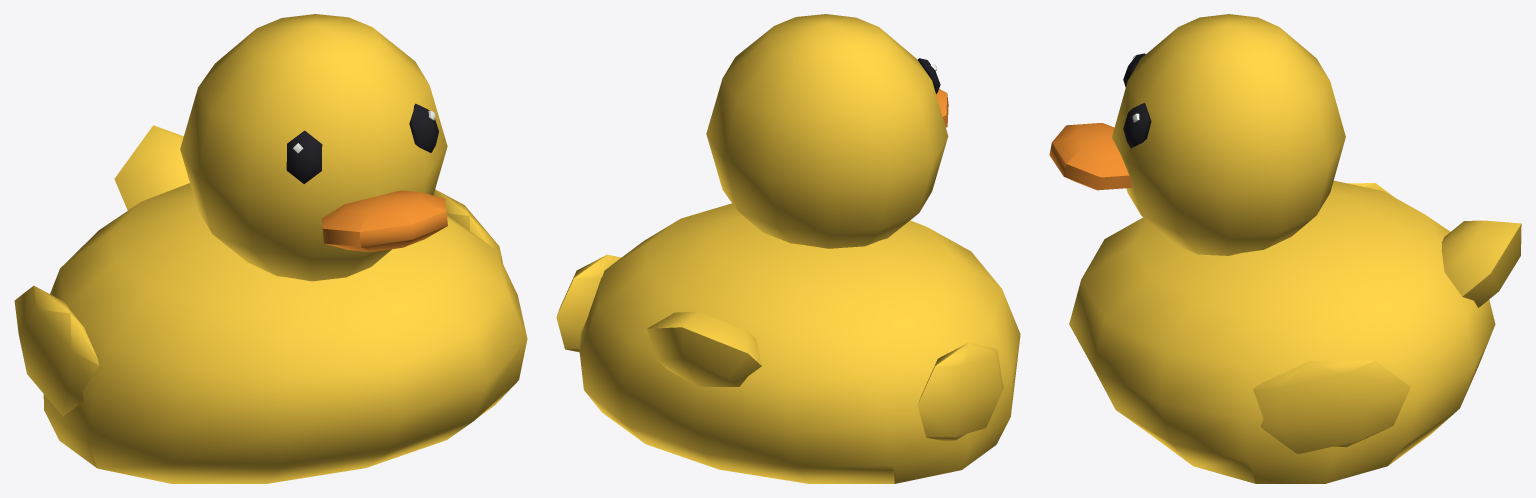
The model's file is GorroPato.fbx.
3 renders of one model, left to right at view 1: azimuth 30°, elevation 25°; view 2: azimuth 150°, elevation 25°; view 3: azimuth 270°, elevation 25°, orthographic. The views are drawn at different scales.
Visible parts, largest first — view 1: GorroPato; view 2: GorroPato; view 3: GorroPato.
Part boxes in pixels (x1,y1,x2,y2): GorroPato: (14,14,527,483); GorroPato: (556,14,1020,483); GorroPato: (1049,14,1521,483).
Bounding box in the file's own units: 1.5 × 1.32 × 1.53.
Materials: 1 (1 with a texture image).
